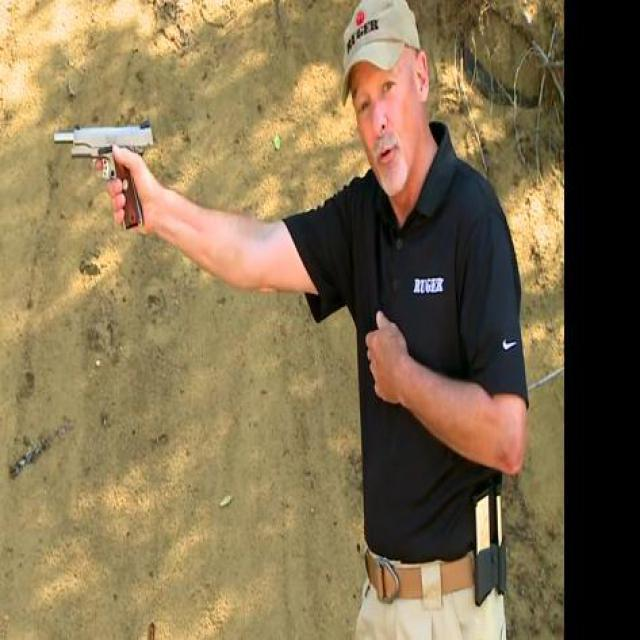gun: (52, 119, 154, 234)
